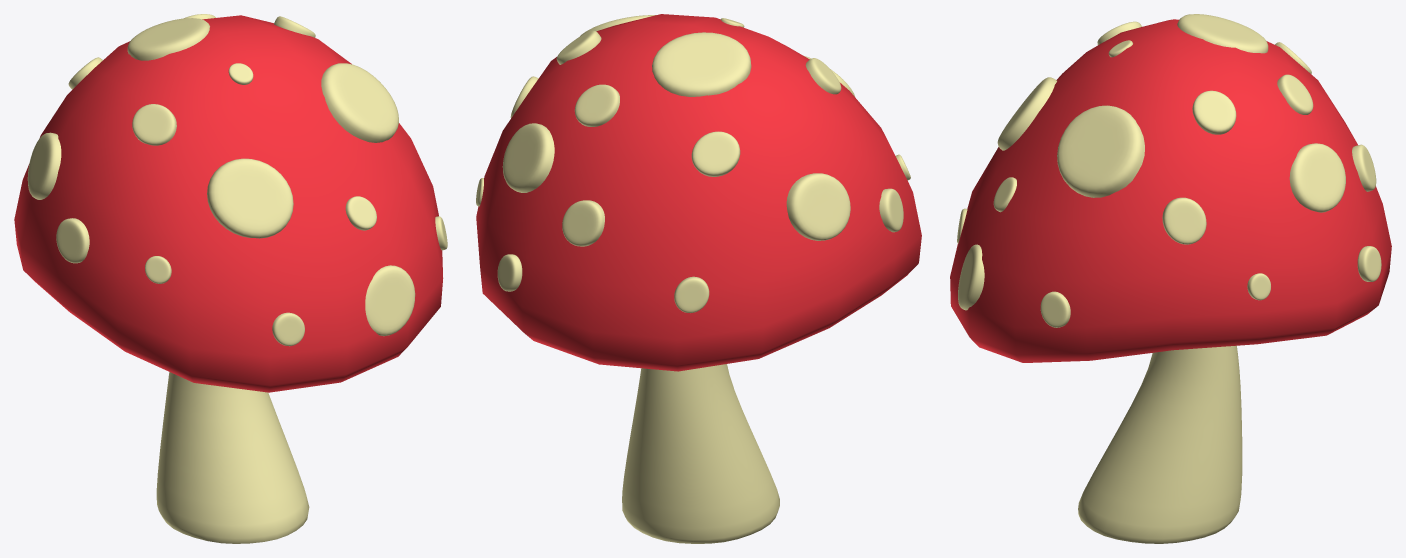
Rendered from HONGO2.fbx.
The picture shows the model from 3 angles, left to right: view 1: azimuth 30°, elevation 25°; view 2: azimuth 150°, elevation 25°; view 3: azimuth 270°, elevation 25°; orthographic projection. The views are drawn at different scales.
Parts seen in each view (by area): view 1: Cube.001, Cylinder.043, Cylinder.031, Cylinder.032, Cylinder.022, Cylinder.029, Cylinder.041, Cylinder.040, Cylinder.023, Cylinder.024, Cylinder.042, Cylinder.025; view 2: Cube.001, Cylinder.043, Cylinder.029, Cylinder.041, Cylinder.036, Cylinder.039, Cylinder.038, Cylinder.037, Cylinder.035, Cylinder.023, Cylinder.034, Cylinder.040 (+1 smaller); view 3: Cube.001, Cylinder.043, Cylinder.032, Cylinder.036, Cylinder.029, Cylinder.027, Cylinder.028, Cylinder.031, Cylinder.022, Cylinder.037, Cylinder.033, Cylinder.038 (+3 smaller).
Part boxes in pixels (x1,y1,x2,y2): Cube.001: (14,15,443,392); Cylinder.043: (156,372,309,543); Cylinder.031: (207,158,293,238); Cylinder.032: (321,63,398,142); Cylinder.022: (365,265,415,336); Cylinder.029: (127,18,209,60); Cylinder.041: (27,132,61,199); Cylinder.040: (132,104,176,145); Cylinder.023: (56,218,89,263); Cylinder.024: (272,312,304,346); Cylinder.042: (345,196,376,230); Cylinder.025: (145,256,171,283); Cube.001: (476,14,921,371); Cylinder.043: (622,364,779,543); Cylinder.029: (652,32,751,96); Cylinder.041: (786,173,850,240); Cylinder.036: (502,123,554,192); Cylinder.039: (691,131,740,176); Cylinder.038: (562,200,604,246); Cylinder.037: (574,84,619,126); Cylinder.035: (674,276,709,312); Cylinder.023: (879,188,903,232); Cylinder.034: (497,254,522,291); Cylinder.040: (805,58,841,94); Cube.001: (950,19,1391,362); Cylinder.043: (1078,345,1242,543); Cylinder.032: (1057,105,1144,197); Cylinder.036: (1289,143,1345,212); Cylinder.029: (1177,14,1268,53); Cylinder.027: (1162,197,1206,244); Cylinder.028: (1192,90,1236,134); Cylinder.031: (997,77,1056,150); Cylinder.022: (958,244,984,310); Cylinder.037: (1277,74,1313,114); Cylinder.033: (1040,291,1070,327); Cylinder.038: (1352,144,1376,191).
Bounding box in the file's own units: 193 × 243 × 203.
